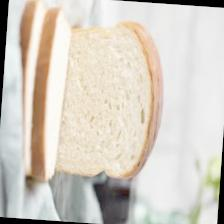bread: (46, 15, 169, 180)
